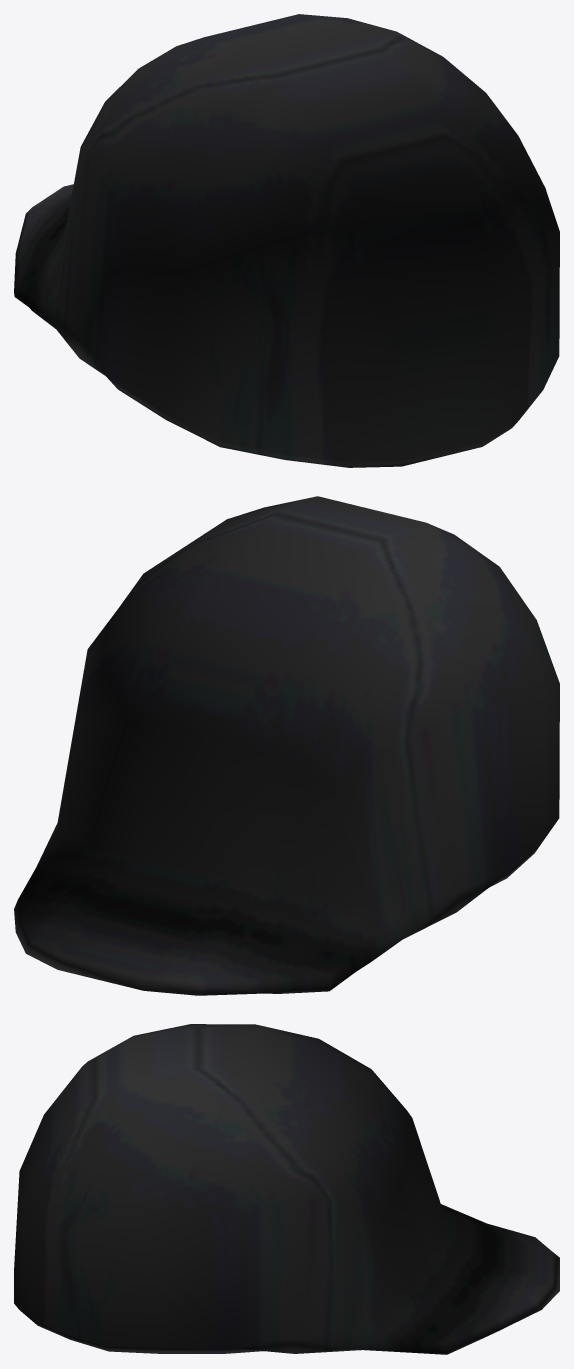
Rendered from MY2.ICO.obj.
The picture shows the model from 3 angles, top to bottom: view 1: azimuth 30°, elevation 25°; view 2: azimuth 150°, elevation 25°; view 3: azimuth 270°, elevation 25°; orthographic projection. The views are drawn at different scales.
Size of the model in its own units: 3.29 by 2.45 by 4.91.
1 material, 1 textured.
